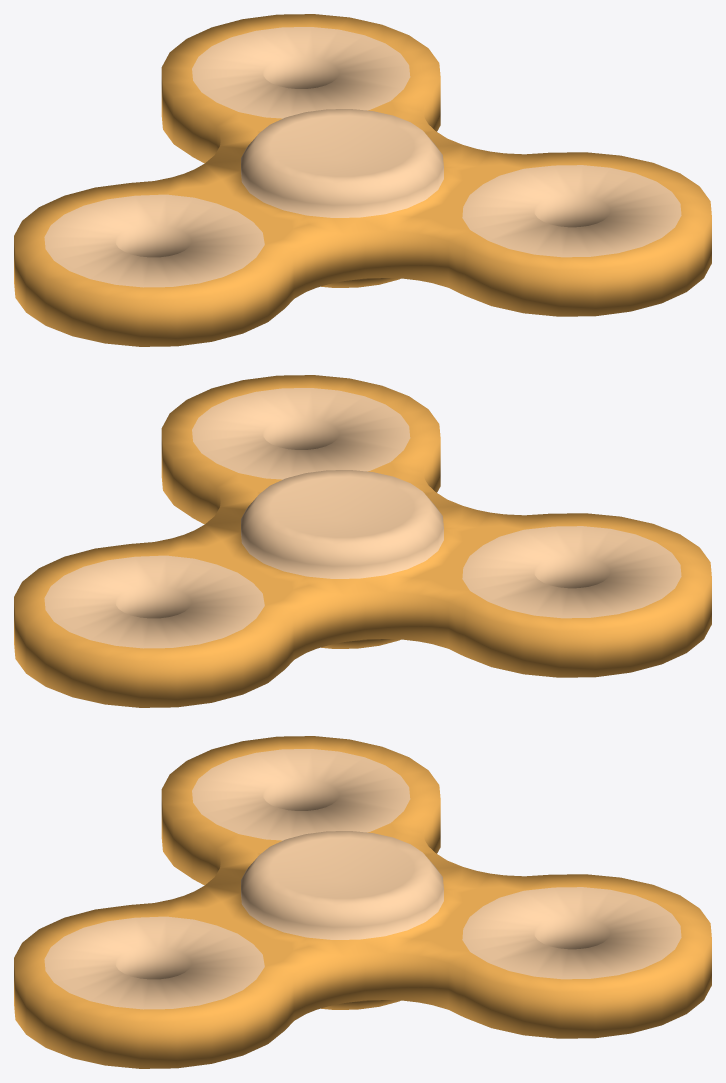
Rendered from ToyObject_080.fbx.
3 views of the same model, one above another, from view 1: azimuth 30°, elevation 25°; view 2: azimuth 150°, elevation 25°; view 3: azimuth 270°, elevation 25° (orthographic).
Parts seen in each view (by area): view 1: Object.063; view 2: Object.063; view 3: Object.063.
Boxes of the visible parts, x1,y1,x2,y2 form: Object.063: (14, 14, 711, 346); Object.063: (14, 375, 711, 707); Object.063: (14, 736, 711, 1068).
Size of the model in its own units: 0.1908 by 0.0325 by 0.1966.
